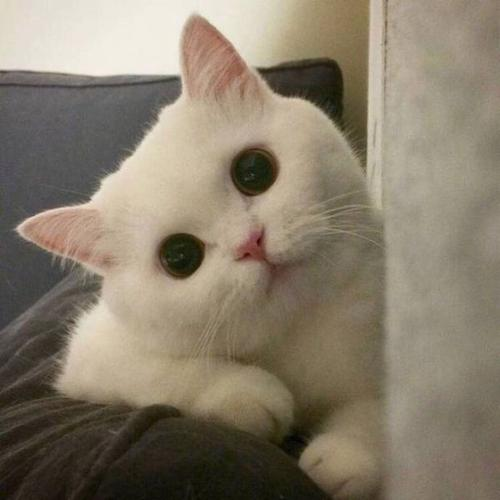cat: (30, 27, 380, 357)
